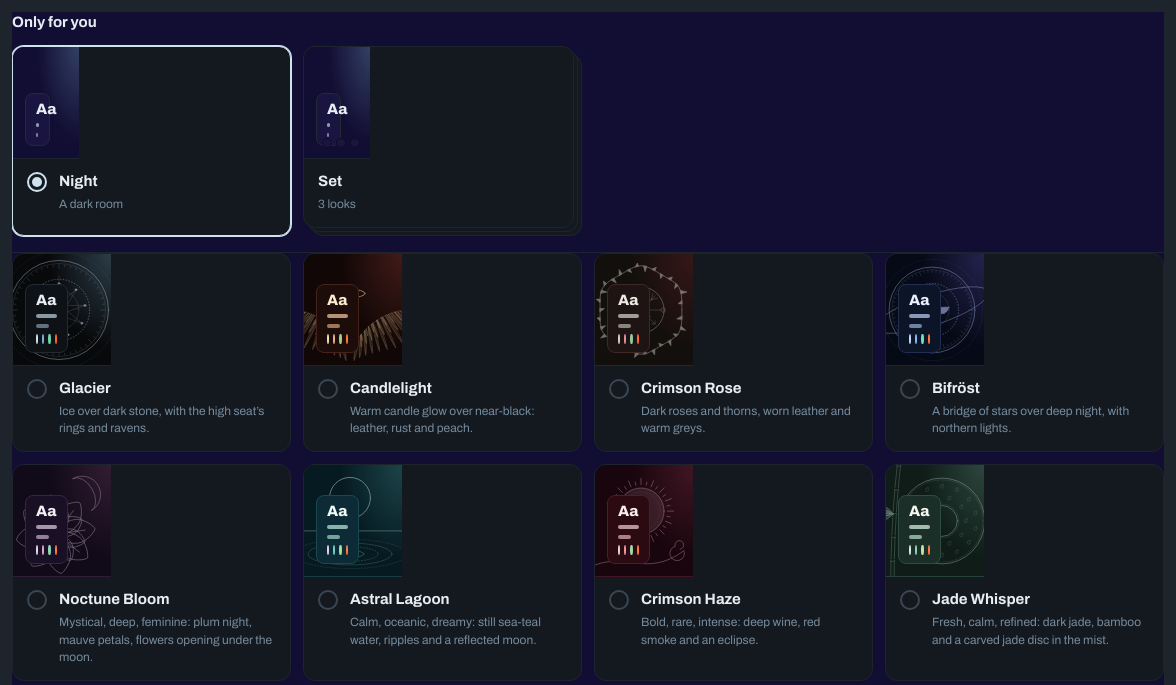
Test: owner-only themes in the app (T47) › Account → Theme: looks of one set show as one tile that opens its looks; picking one wears it (T74)
This screenshot has width=1176, height=685.
Expected: the radio button labelled "Aa Night A dark room" is shown, [12,46,291,236]
Click the button "Aa Set 3 looks". click: (337, 103)
box: [303,46,574,228]
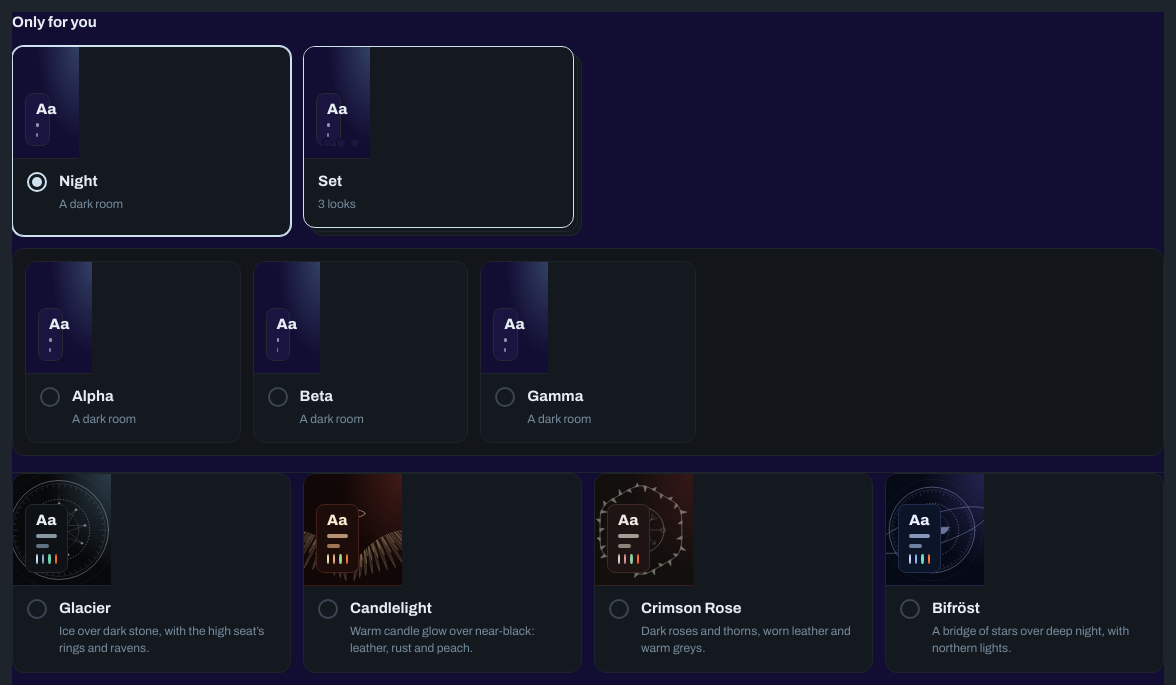
Click the radio button labelled "Aa Beta A dark room". click: (360, 352)
box: [253,261,468,443]
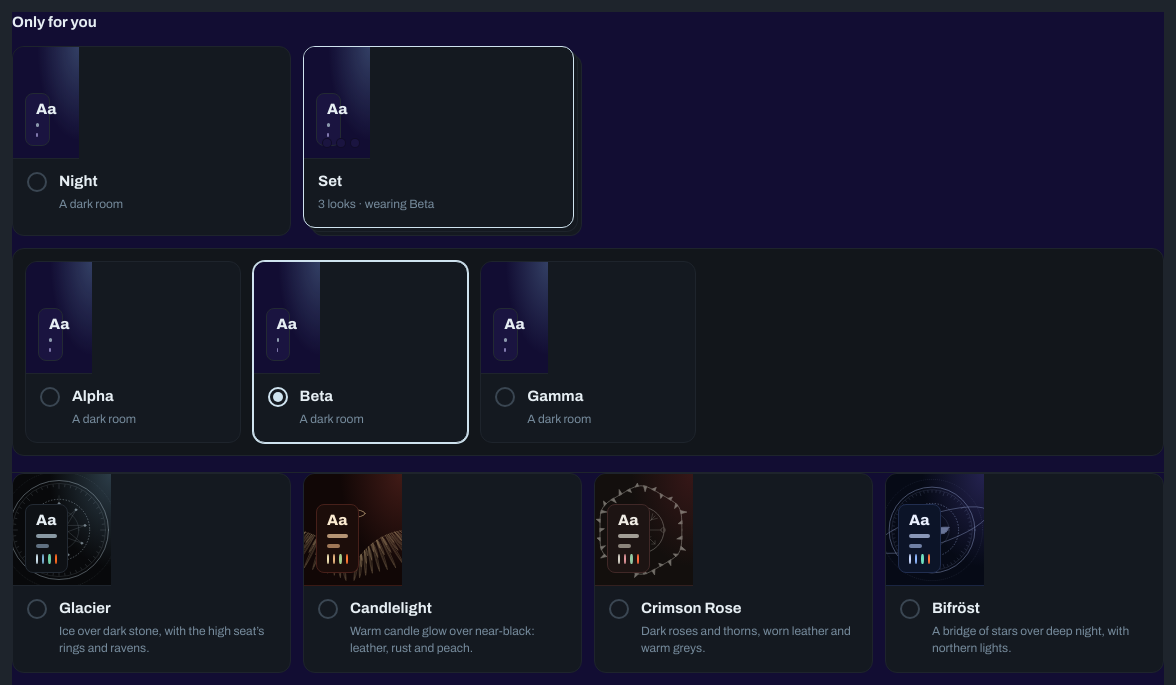
Result: the button "Aa Set 3 looks · wearing Beta" is shown at [303,46,574,228]
